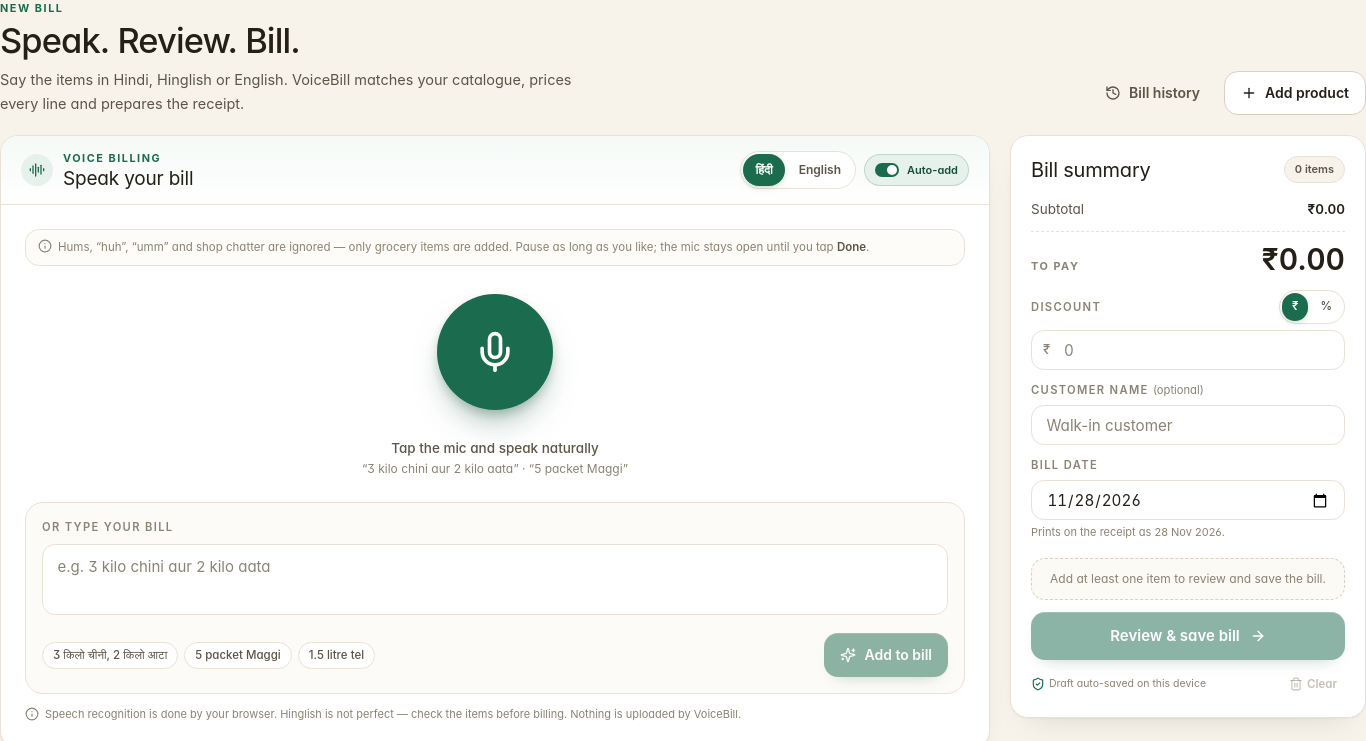
Scenario: new bill screen › shows the bill date, lets it be changed, and prints it with the GSTIN
Expected: the text "Prints on the receipt as 28 Nov 2026." is shown, x1=1031 y1=525 x2=1225 y2=539
Note: Back-date the bill, then add an item and review it.
Step 1. Type "2026-11-20" into the date field labelled "Bill date" → (1188, 500), box x1=1031 y1=480 x2=1345 y2=520
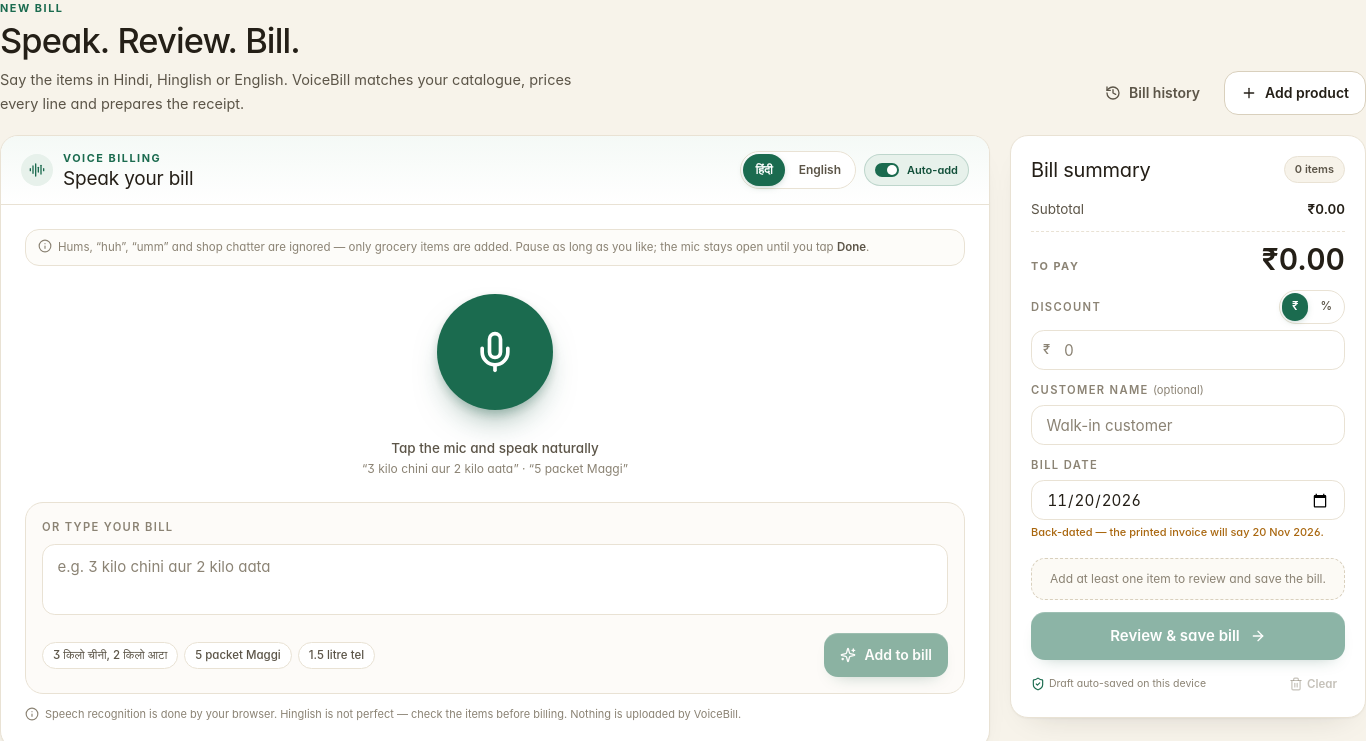
Expected: the text "Back-dated — the printed invoice will say 20 Nov 2026." is shown, x1=1031 y1=525 x2=1324 y2=539
Step 2. Type "2 kilo chini" into the text box labelled "Or type your bill" → (495, 580), box x1=42 y1=544 x2=948 y2=615
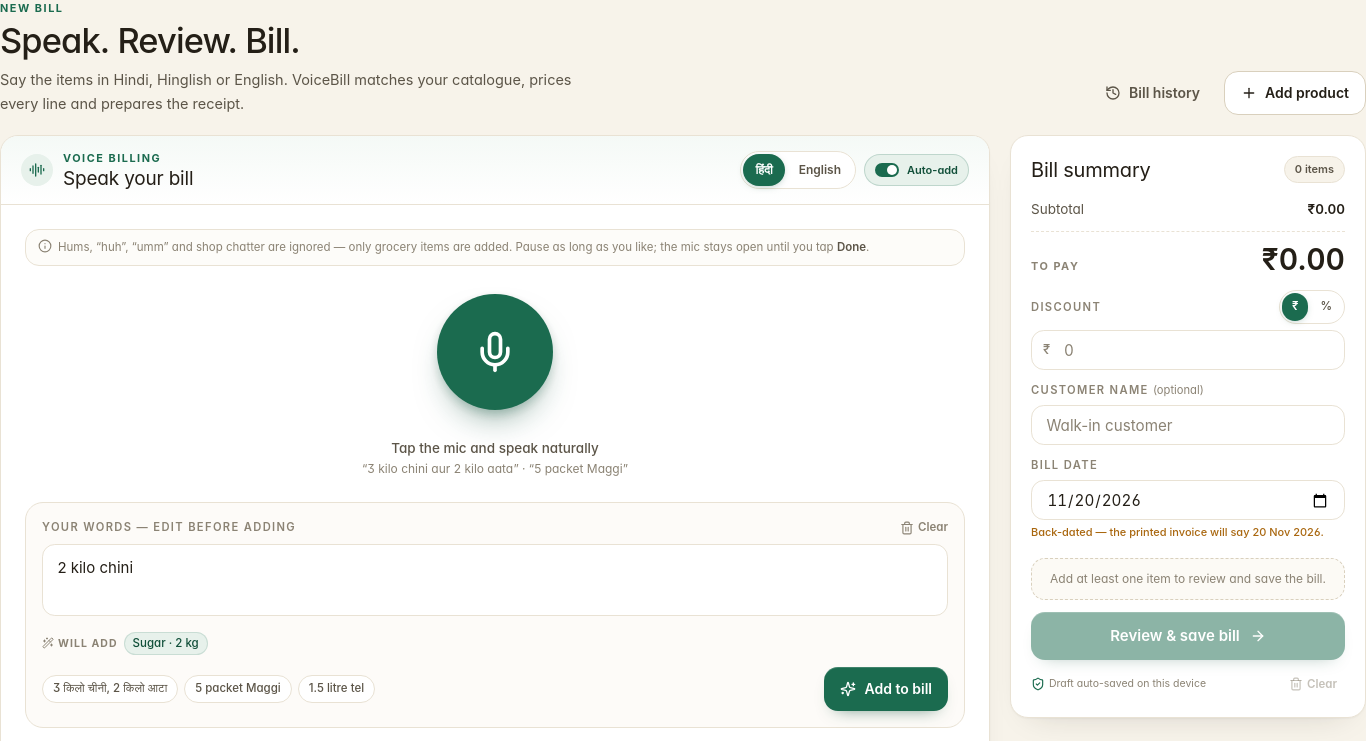
Step 3. Click the button "Add to bill" → (886, 689), box x1=824 y1=667 x2=948 y2=711
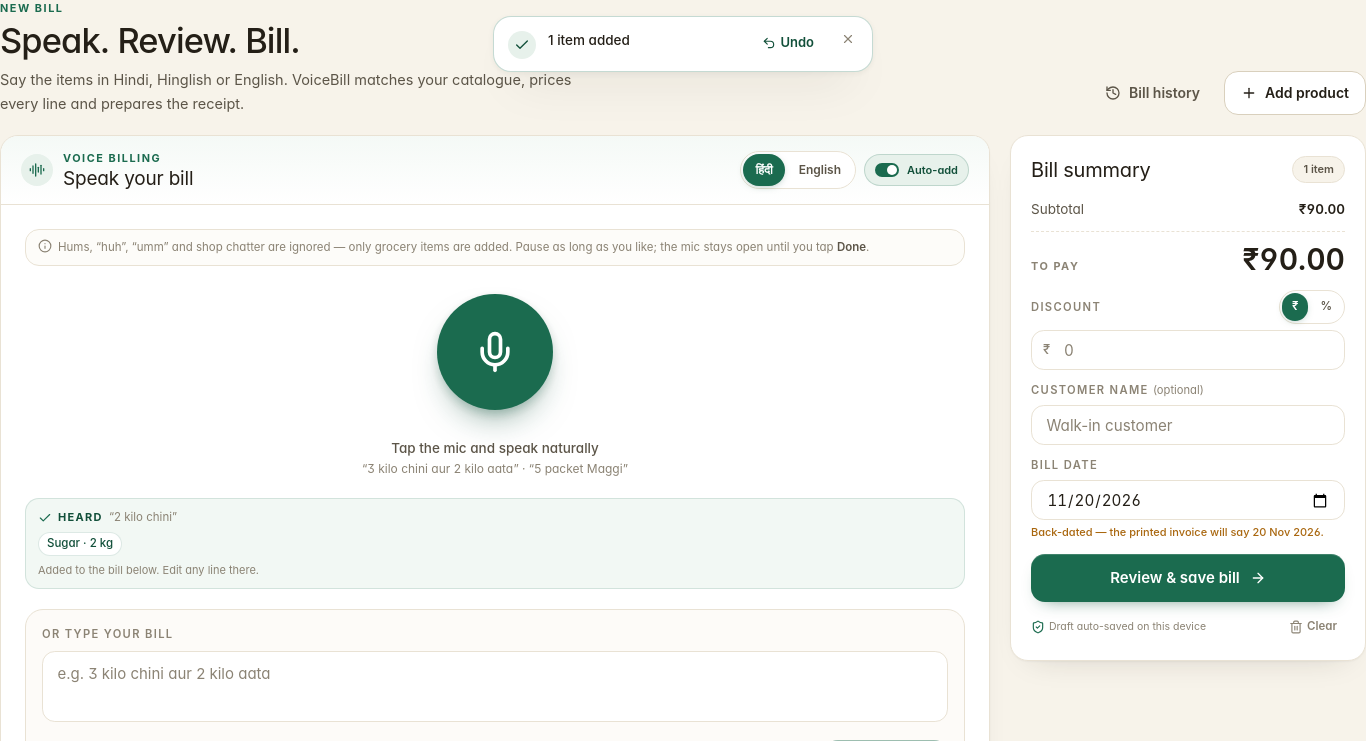
Step 4. Click the button "Review & save bill" → (1188, 578), box x1=1031 y1=554 x2=1345 y2=602
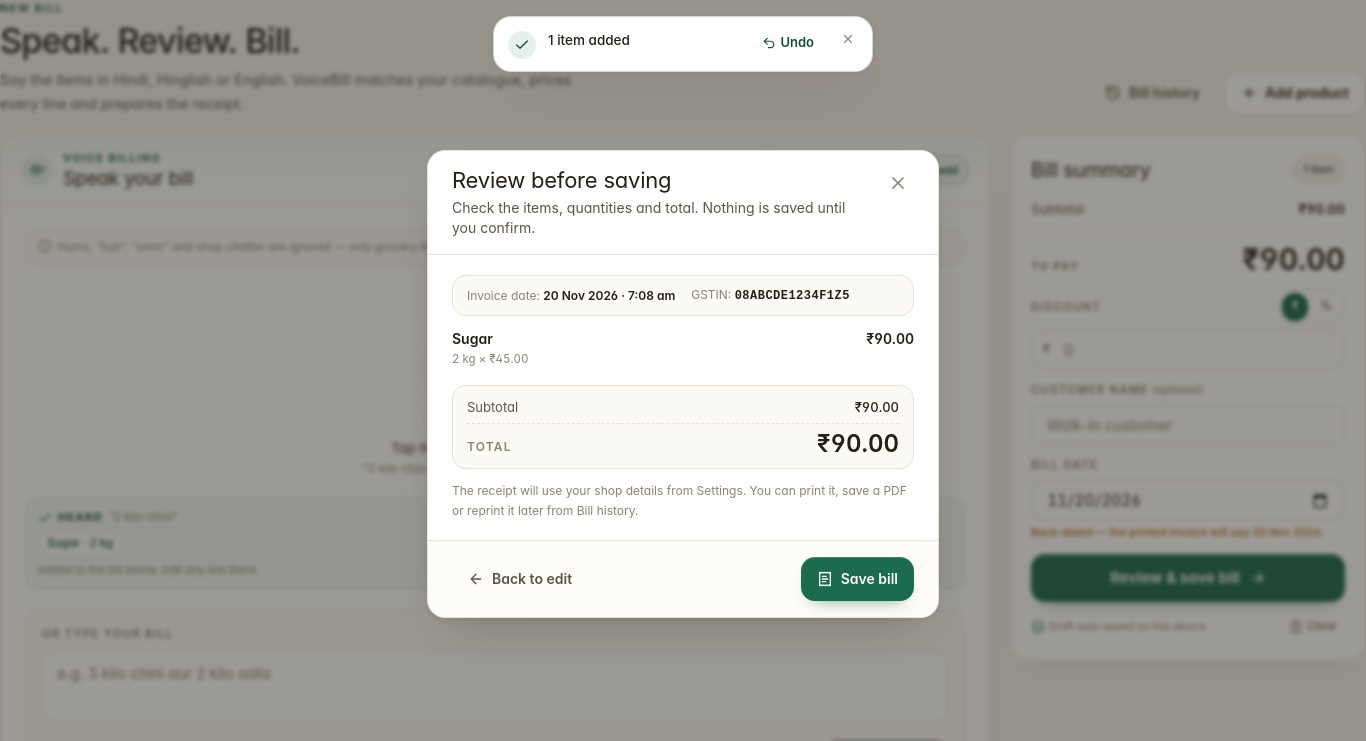
Expected: the heading "Review before saving" is shown, x1=452 y1=167 x2=671 y2=193
Expected: the text "Invoice date:" is shown, x1=467 y1=288 x2=540 y2=303
Expected: the text "08ABCDE1234F1Z5" is shown, x1=735 y1=289 x2=850 y2=303
Step 5. Click the button "Save bill" → (857, 579), box x1=801 y1=557 x2=914 y2=601
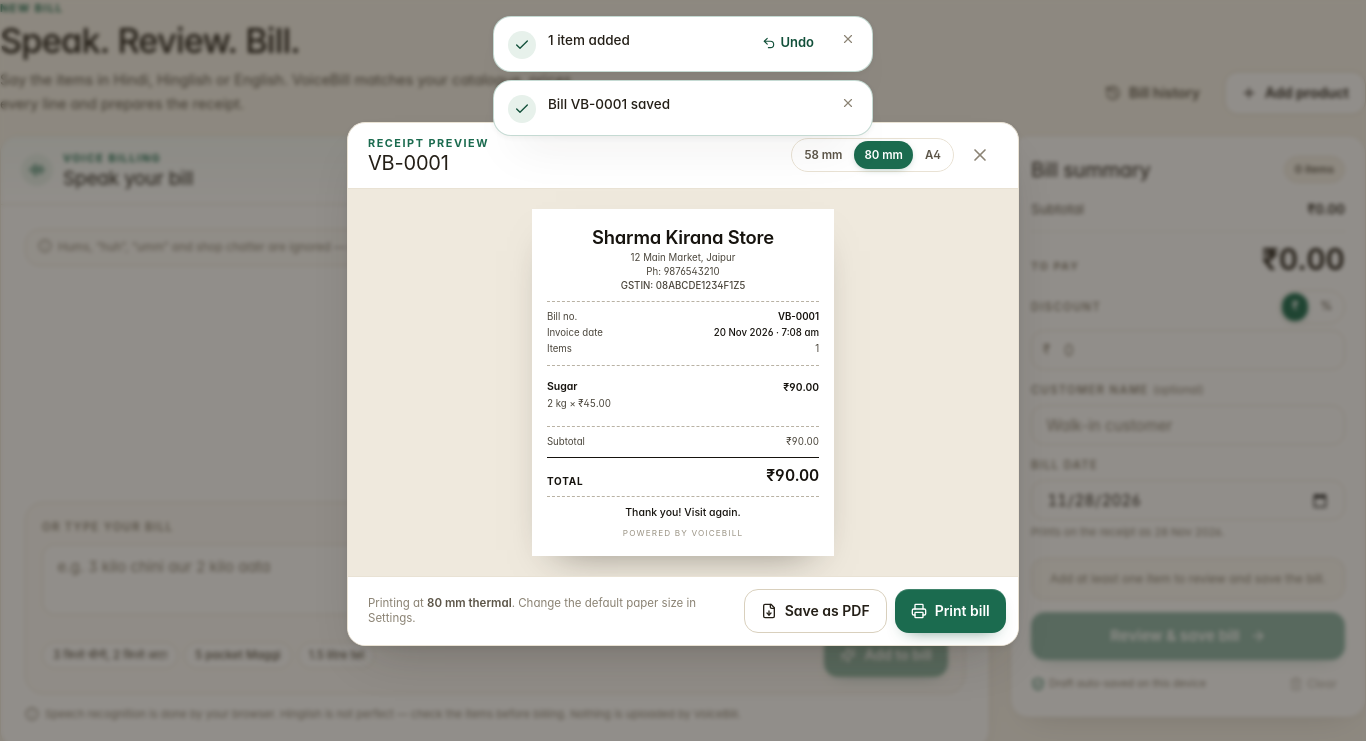
Expected: the dialog named "receipt vb-0001" shows "GSTIN: 08ABCDE1234F1Z5", x1=347 y1=122 x2=1019 y2=646
